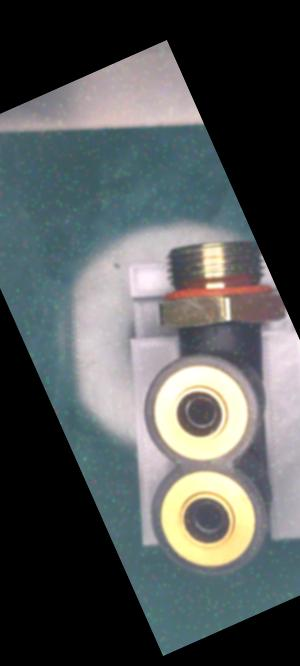craze: (203, 319, 228, 345)
